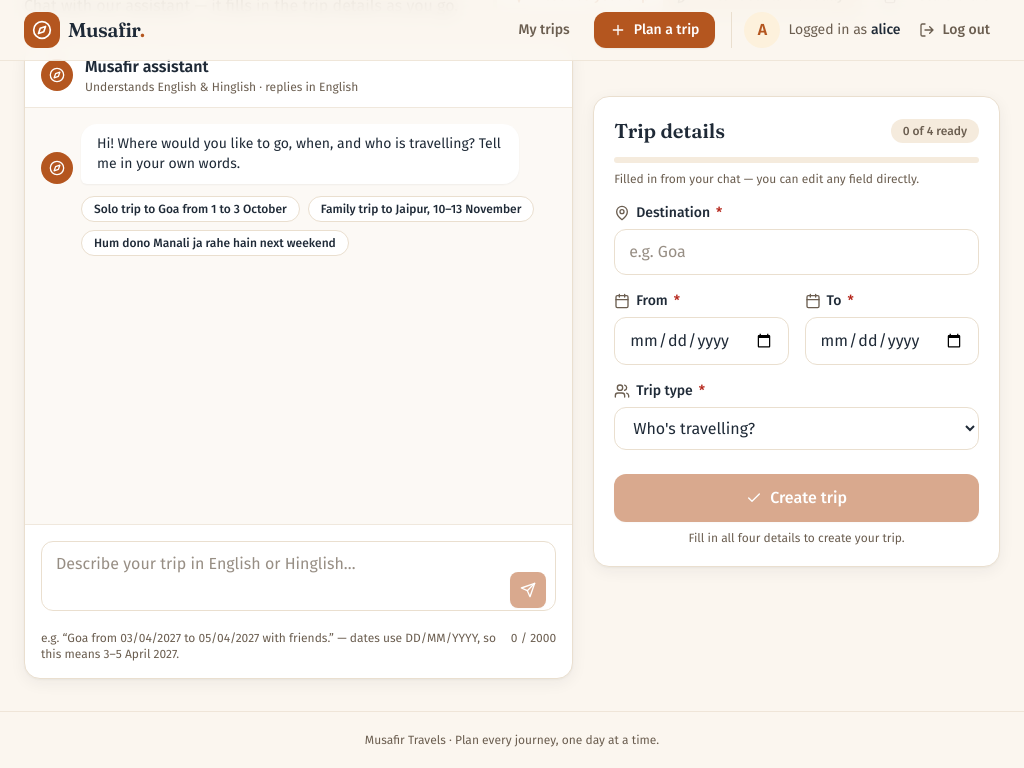
Test case: NewTripPage when the AI is rate limited › offers manual entry when the wait is long (daily quota)
(page scrolled)
In the text box named "Message": {"x": 299, "y": 576} [41,541,556,611], type "Solo trip to Goa"
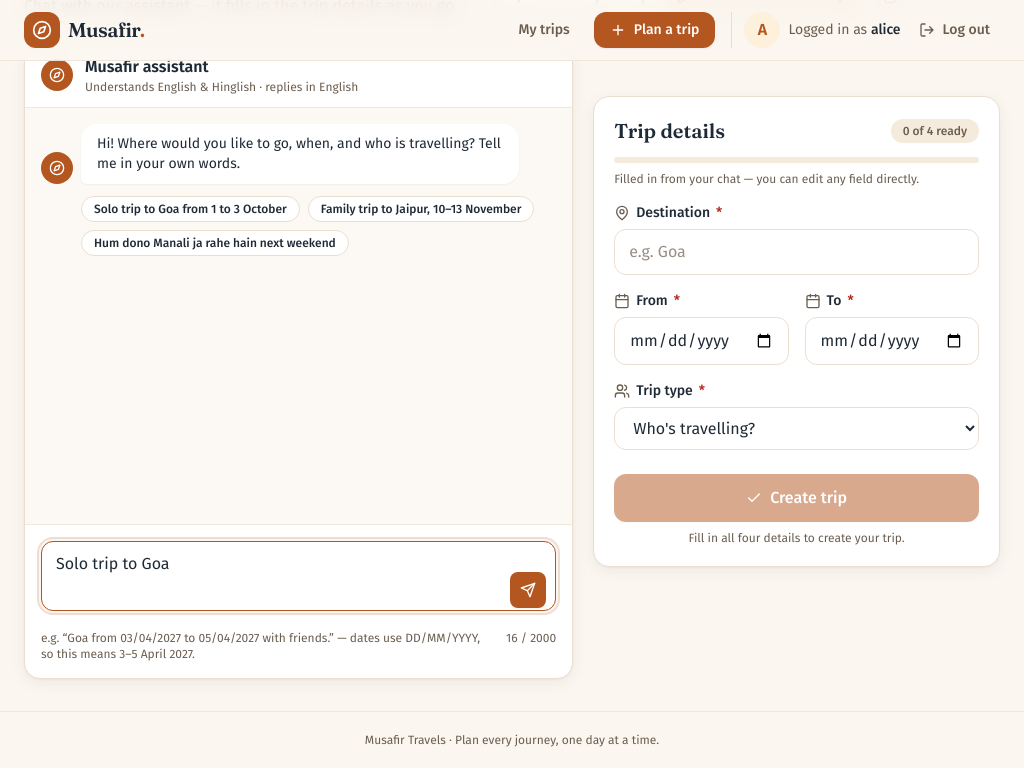
Click the button named "Send": {"x": 528, "y": 590} [510,572,546,608]
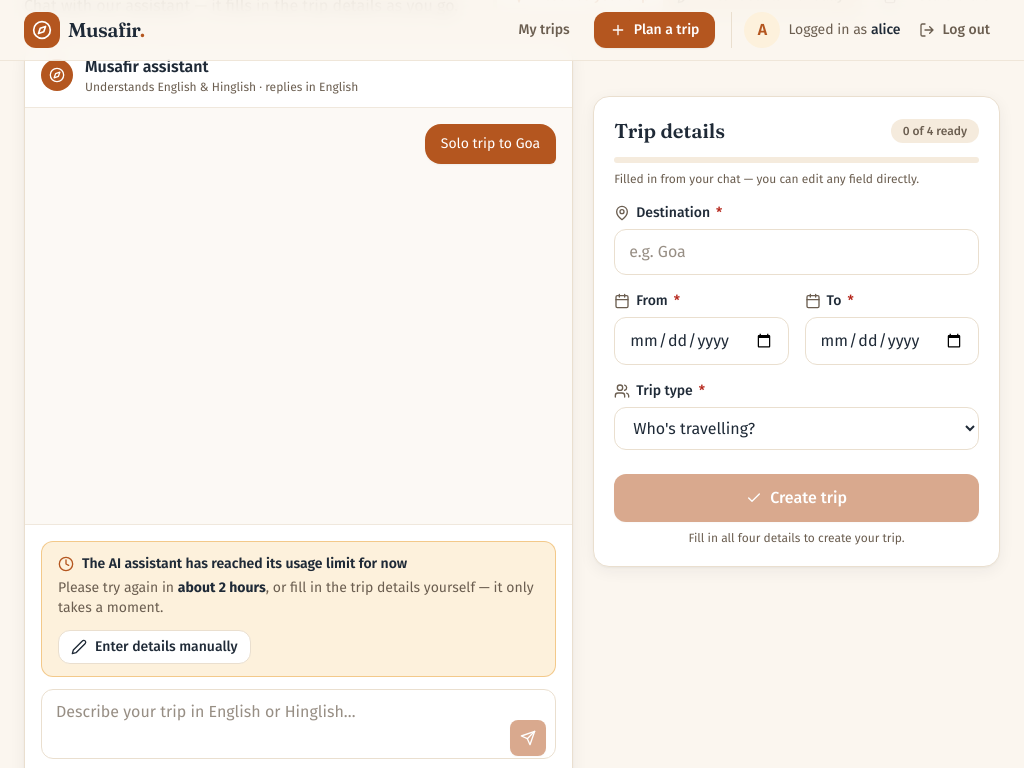
Expected: the text "The AI assistant has reached its usage limit for now" is shown, [58,555,407,572]
Expected: the text "about 2 hours" is shown, [178,579,266,596]
Expected: the button "Enter details manually" is shown, [58,630,251,664]
